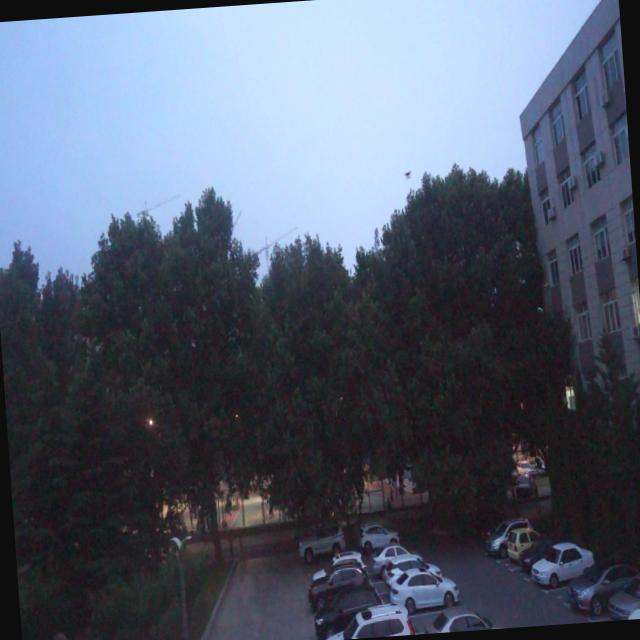drone: (402, 167, 412, 180)
